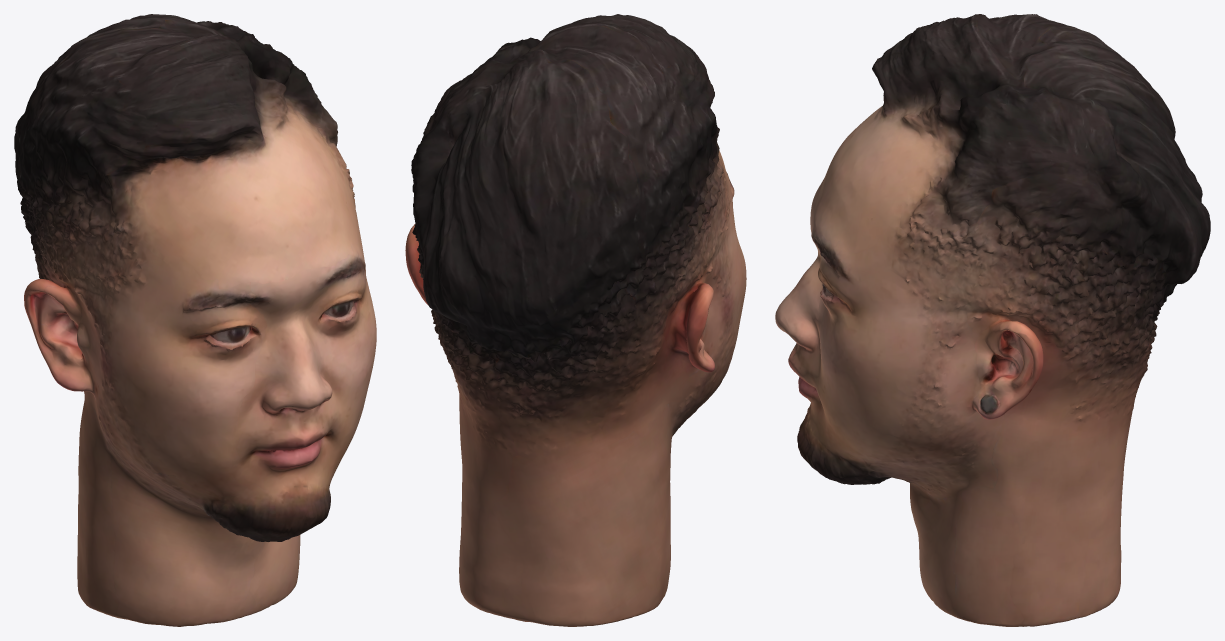
Rendered from 真人头像_男_青年01_opt.glb.
The picture shows the model from 3 angles, left to right: view 1: azimuth 30°, elevation 25°; view 2: azimuth 150°, elevation 25°; view 3: azimuth 270°, elevation 25°; orthographic projection. The views are drawn at different scales.
Visible parts, largest first — view 1: 0204-4-S-L-1; view 2: 0204-4-S-L-1; view 3: 0204-4-S-L-1.
Boxes of the visible parts, x1,y1,x2,y2 form: 0204-4-S-L-1: (14,14,376,626); 0204-4-S-L-1: (405,14,746,626); 0204-4-S-L-1: (775,14,1210,626).
Bounding box in the file's own units: 0.1721 × 0.3 × 0.2158.
Materials: 2 (2 with a texture image).
